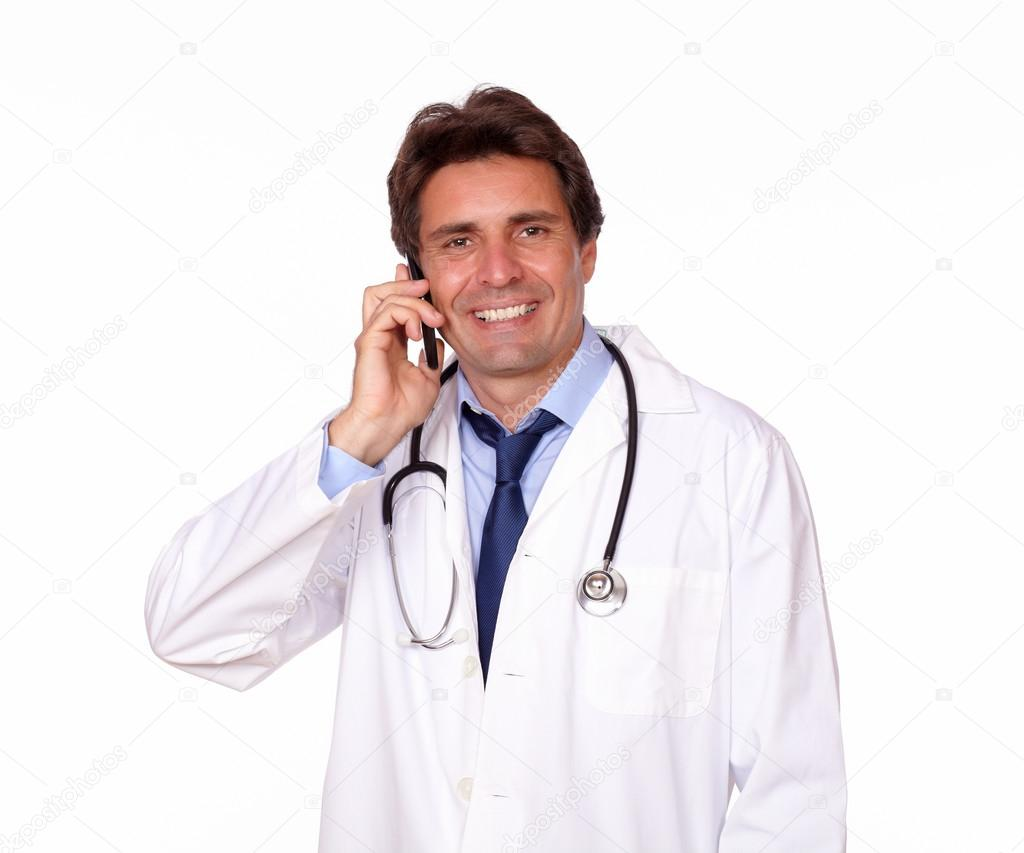phone: (353, 260, 455, 405)
talk: (346, 204, 583, 433)
